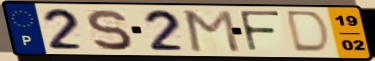2: (42, 6, 89, 52), (143, 7, 190, 53)
D: (286, 9, 334, 56)
F: (237, 9, 284, 54)
M: (182, 9, 242, 54)
S: (84, 8, 135, 52)
